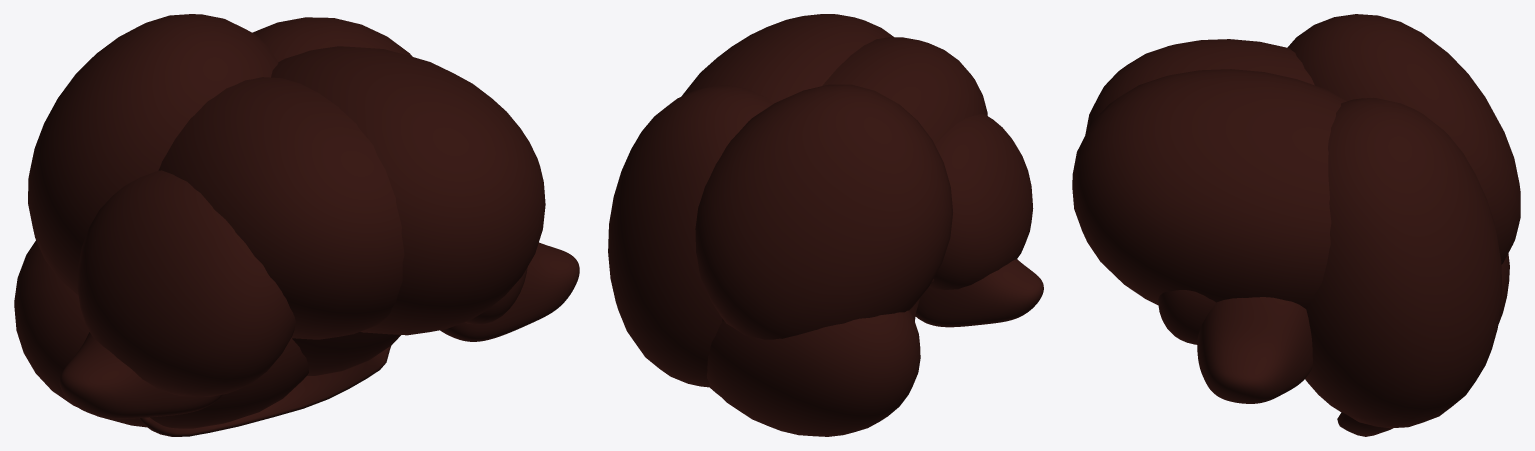
The model's file is wolke.fbx.
3 views of the same model, side by side, from view 1: azimuth 30°, elevation 25°; view 2: azimuth 150°, elevation 25°; view 3: azimuth 270°, elevation 25° (orthographic). The views are drawn at different scales.
Parts seen in each view (by area): view 1: Cube.070, Cube.071, Cube.069, Cube.075, Cube.076, Cube.073, Cube.074, BALD BESSER.004, Cube.072; view 2: Cube.075, Cube.074, Cube.076, Cube.069, Cube.070, Cube.071, Cube.073; view 3: Cube.070, Cube.074, Cube.075, Cube.073, Cube.071, Cube.072, BALD BESSER.004.
Part boxes in pixels (x1,y1,x2,y2): Cube.070: [271, 46, 545, 335]; Cube.071: [158, 77, 404, 339]; Cube.069: [77, 170, 295, 396]; Cube.075: [28, 14, 278, 295]; Cube.076: [14, 240, 308, 428]; Cube.073: [59, 242, 579, 418]; Cube.074: [252, 17, 412, 375]; BALD BESSER.004: [139, 346, 390, 436]; Cube.072: [465, 267, 527, 324]; Cube.075: [695, 84, 952, 339]; Cube.074: [608, 85, 772, 387]; Cube.076: [706, 310, 920, 436]; Cube.069: [929, 114, 1033, 290]; Cube.070: [681, 14, 893, 103]; Cube.071: [822, 37, 987, 144]; Cube.073: [915, 259, 1043, 327]; Cube.070: [1072, 69, 1346, 309]; Cube.074: [1305, 97, 1502, 428]; Cube.075: [1287, 14, 1520, 264]; Cube.073: [1197, 297, 1312, 403]; Cube.071: [1085, 39, 1314, 134]; Cube.072: [1158, 290, 1216, 344]; BALD BESSER.004: [1337, 412, 1393, 436].
Size of the model in its own units: 179 by 142 by 157.
